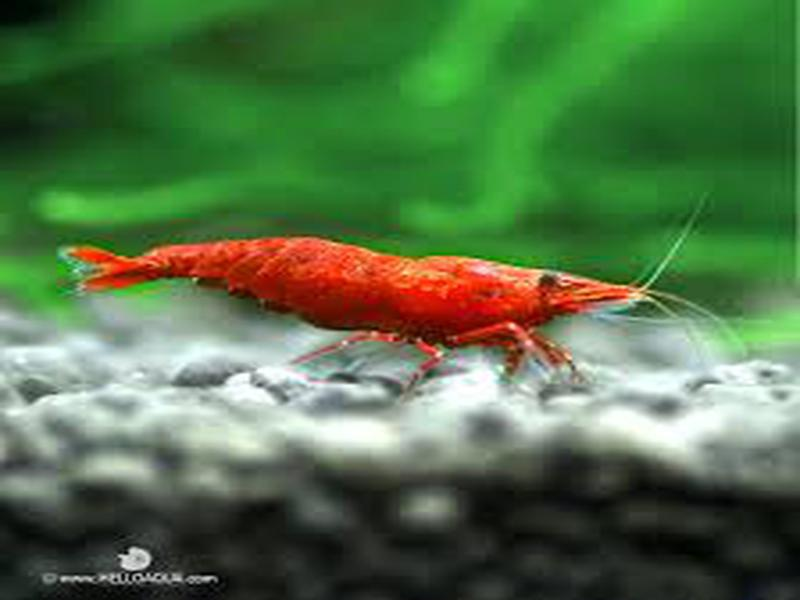shrimp: (59, 235, 652, 381)
